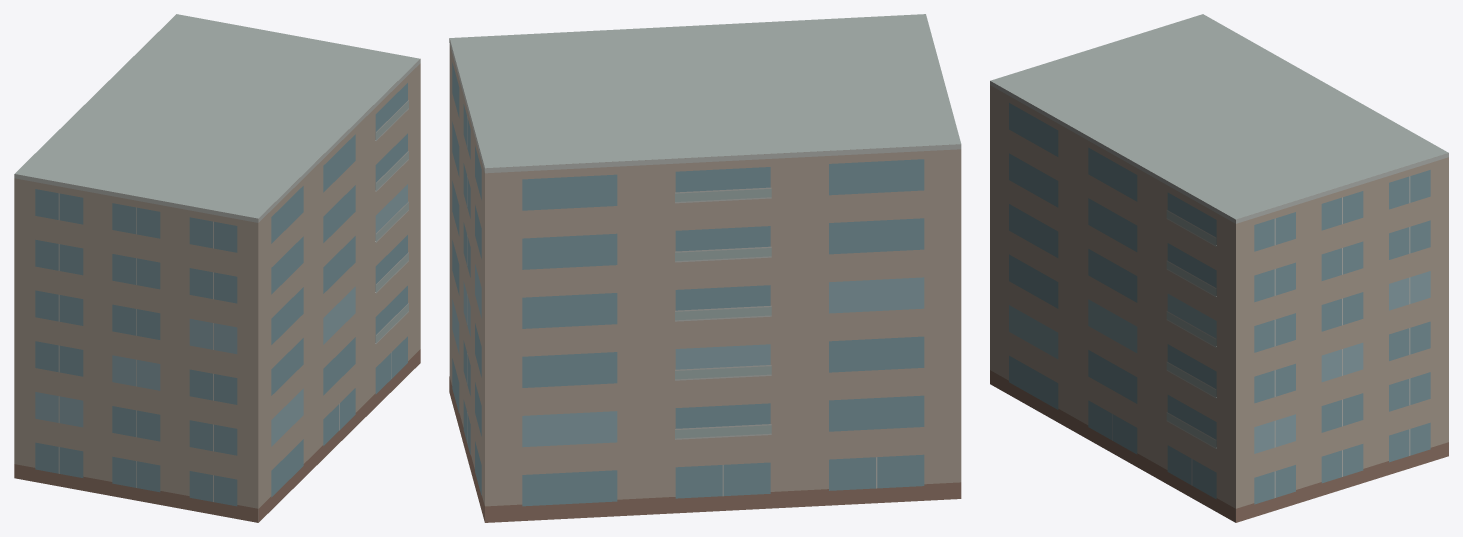
The model's file is survey-upis-32585458.glb.
The picture shows the model from 3 angles, left to right: view 1: azimuth 30°, elevation 25°; view 2: azimuth 150°, elevation 25°; view 3: azimuth 270°, elevation 25°; orthographic projection. The views are drawn at different scales.
Parts seen in each view (by area): view 1: survey-upis-32585458.tmp; view 2: survey-upis-32585458.tmp; view 3: survey-upis-32585458.tmp.
Part boxes in pixels (x1=…): survey-upis-32585458.tmp: x1=14, y1=14, x2=420, y2=522; survey-upis-32585458.tmp: x1=449, y1=14, x2=961, y2=522; survey-upis-32585458.tmp: x1=990, y1=14, x2=1448, y2=522.
Size of the model in its own units: 24.71 by 17 by 23.31.
